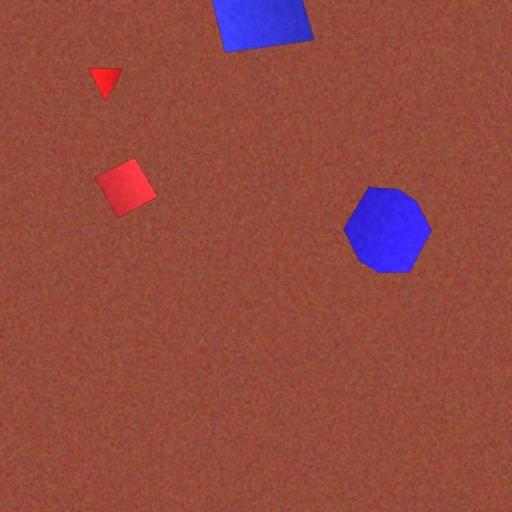BLUE_SQUARE: (204, 0, 315, 54)
RED_SQUARE: (94, 158, 158, 219)
